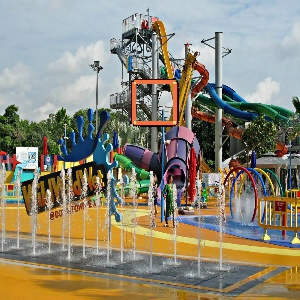square: (129, 77, 179, 127)
